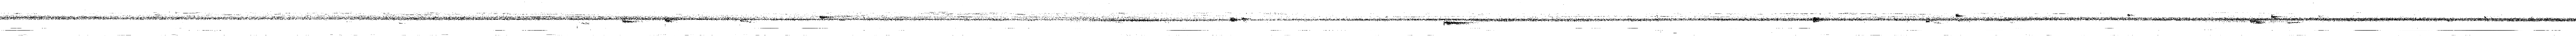meteor: (1444, 21, 1467, 25), (1812, 16, 1827, 21), (2251, 20, 2267, 23), (623, 20, 637, 23), (1955, 13, 1963, 18), (1230, 18, 1240, 21), (818, 16, 835, 18), (1242, 18, 1250, 21), (2127, 13, 2134, 16)
